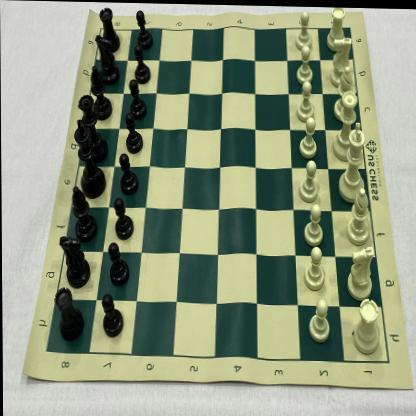black-bishop: (72, 187, 96, 241), (90, 66, 112, 120)
black-king: (72, 118, 106, 198)
black-pawn: (102, 290, 124, 340), (108, 240, 128, 286), (125, 109, 144, 154), (114, 192, 132, 238), (128, 78, 148, 118), (120, 150, 138, 193), (133, 43, 152, 83), (136, 9, 154, 50)
black-queen: (77, 93, 103, 154)
black-rook: (53, 286, 86, 341), (59, 233, 90, 288), (96, 34, 120, 83), (99, 6, 120, 52)
white-bishop: (346, 183, 372, 242), (332, 64, 355, 119)
white-king: (338, 120, 367, 202)
white-knight: (346, 241, 376, 300), (329, 35, 353, 86)
white-pawn: (303, 245, 329, 290), (308, 297, 334, 342), (298, 158, 323, 202), (303, 203, 328, 244), (298, 116, 322, 158), (296, 79, 316, 121), (296, 44, 316, 83), (296, 10, 316, 48)
white-queen: (332, 89, 360, 160)
white-rook: (352, 294, 381, 354), (326, 6, 348, 51)
